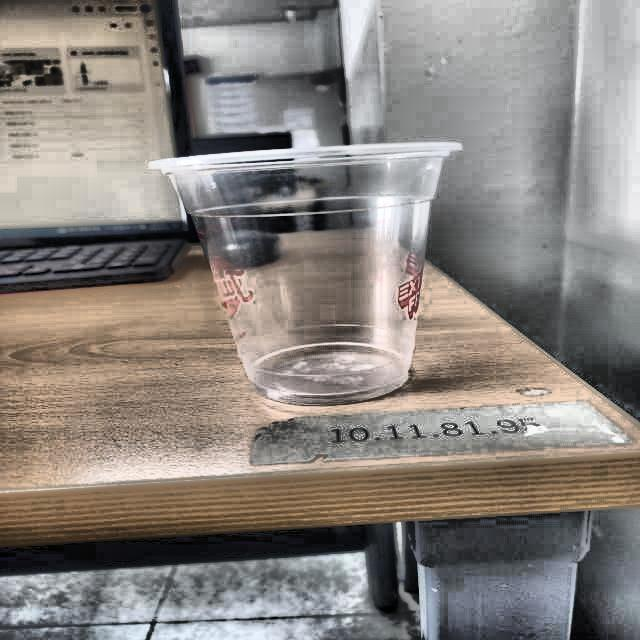plastic cup: (148, 139, 463, 406)
